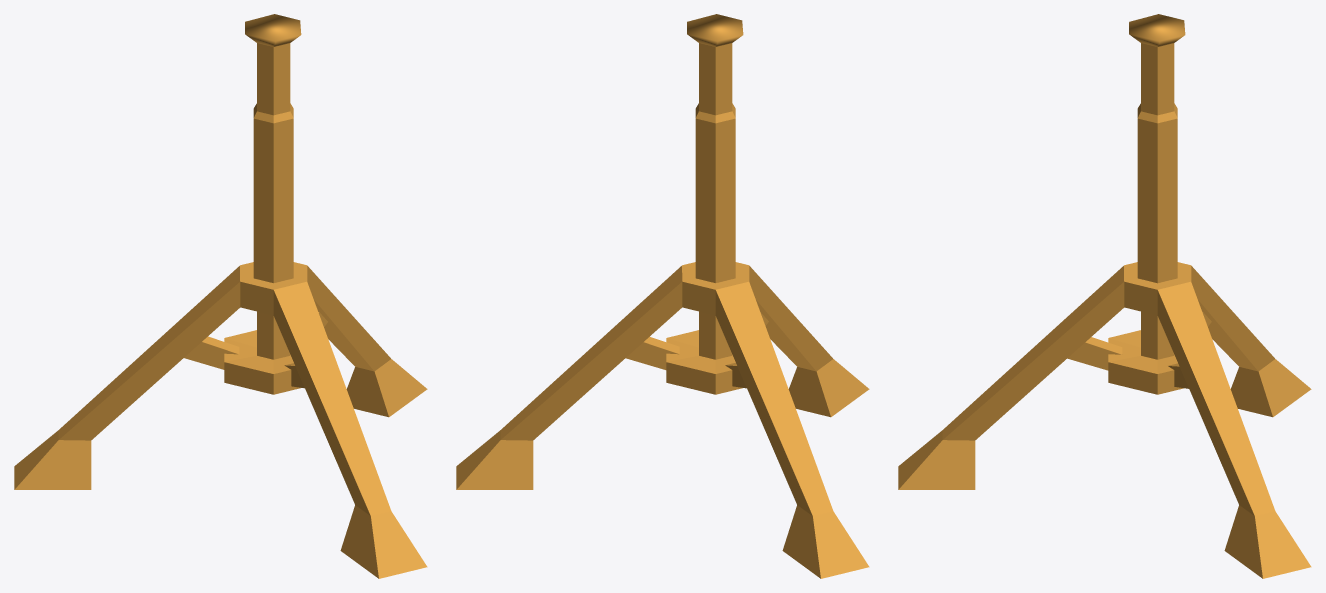
The model's file is CameraStand.fbx.
The picture shows the model from 3 angles, left to right: view 1: azimuth 30°, elevation 25°; view 2: azimuth 150°, elevation 25°; view 3: azimuth 270°, elevation 25°; orthographic projection.
Visible parts, largest first — view 1: drum-snare; view 2: drum-snare; view 3: drum-snare.
Boxes of the visible parts, <box> form: drum-snare: <box>14,14,427,578</box>; drum-snare: <box>456,14,869,578</box>; drum-snare: <box>898,14,1311,578</box>.
Size of the model in its own units: 40.15 by 41.82 by 34.77.
